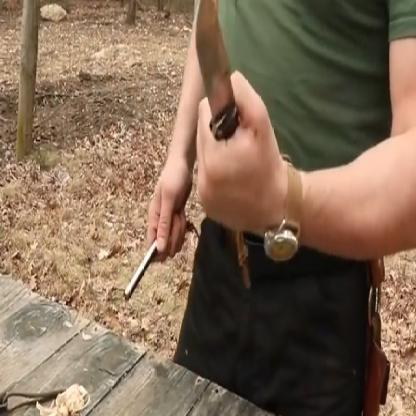knife: (184, 0, 258, 229)
